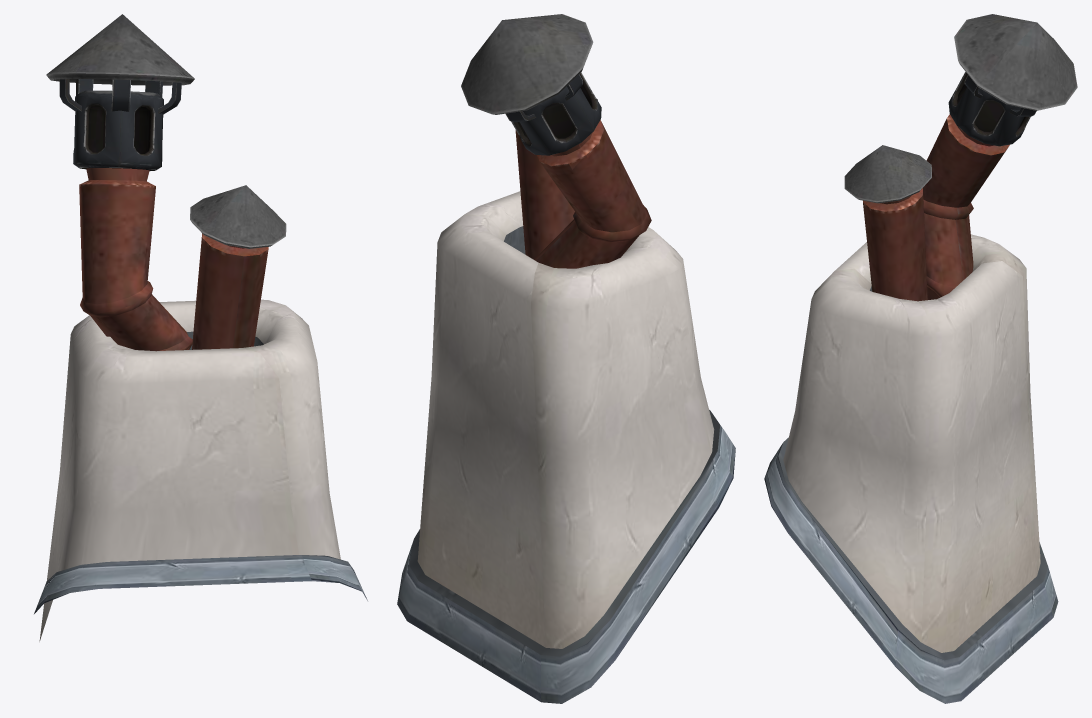
3 views of the same model, side by side, from view 1: azimuth 30°, elevation 25°; view 2: azimuth 150°, elevation 25°; view 3: azimuth 270°, elevation 25° (orthographic). The views are drawn at different scales.
Visible parts, largest first — view 1: Dva_odzaka; view 2: Dva_odzaka; view 3: Dva_odzaka.
Part boxes in pixels (left/top/right/bottom): Dva_odzaka: left=34, top=14, right=367, bottom=641; Dva_odzaka: left=397, top=14, right=735, bottom=703; Dva_odzaka: left=764, top=14, right=1077, bottom=703.
Bounding box in the file's own units: 0.00715 × 0.0143 × 0.00659.
2 materials, 2 textured.
